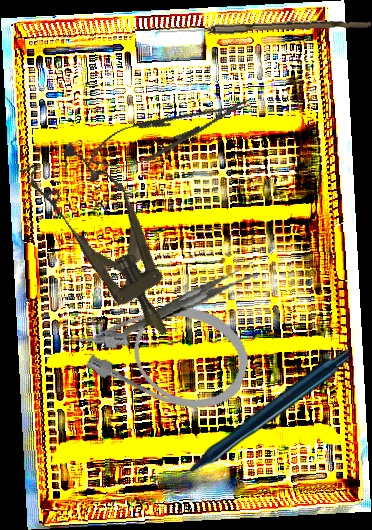Cannula: (57, 274, 259, 424)
Dressing Forceps: (116, 261, 264, 335)
Handpiece: (162, 349, 349, 484)
Needle Holder: (78, 83, 259, 183)
Speculum: (18, 129, 200, 355)
Surgical Spoon: (154, 16, 372, 39)
